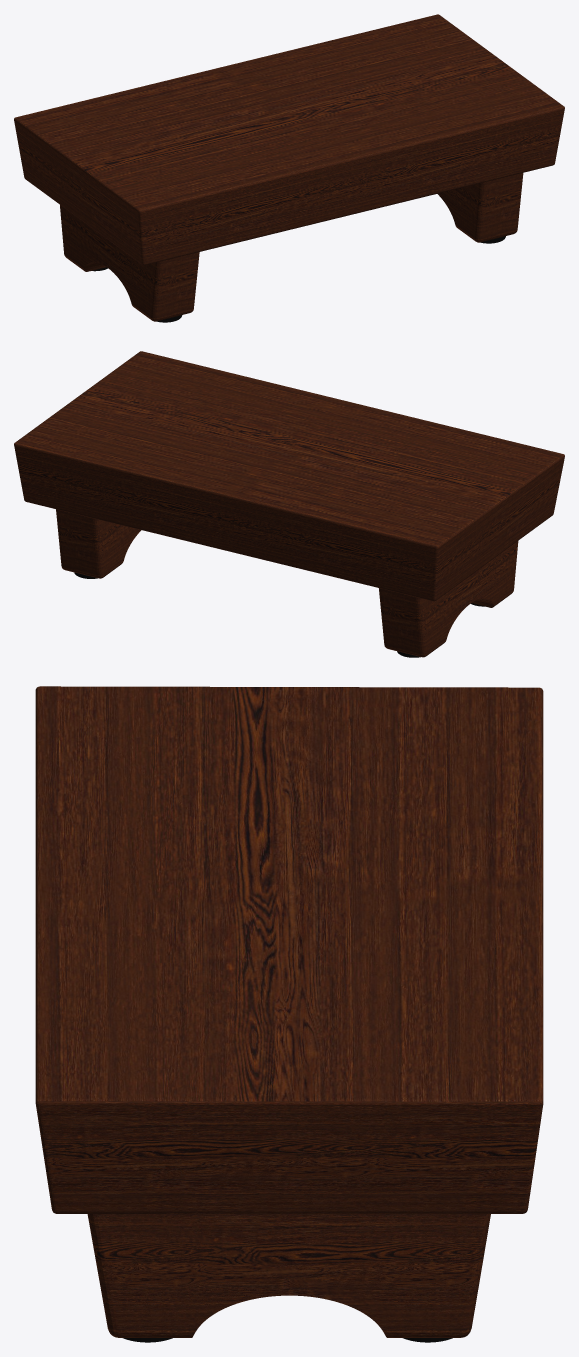
File: table.glb
3 renders of one model, top to bottom at view 1: azimuth 30°, elevation 25°; view 2: azimuth 150°, elevation 25°; view 3: azimuth 270°, elevation 25°, orthographic. The views are drawn at different scales.
Parts seen in each view (by area): view 1: table, leg2.001, leg2; view 2: table, leg2.001, leg2; view 3: table, leg2.
Part boxes in pixels (x1,y1,x2,y2): table: (14,14,564,265); leg2.001: (60,205,199,321); leg2: (437,173,523,242); table: (14,351,564,601); leg2.001: (379,541,518,657); leg2: (56,509,141,578); table: (35,686,543,1213); leg2: (87,1214,490,1337).
Size of the model in its own units: 12.23 by 3.78 by 6.32.
2 materials, 1 textured.
